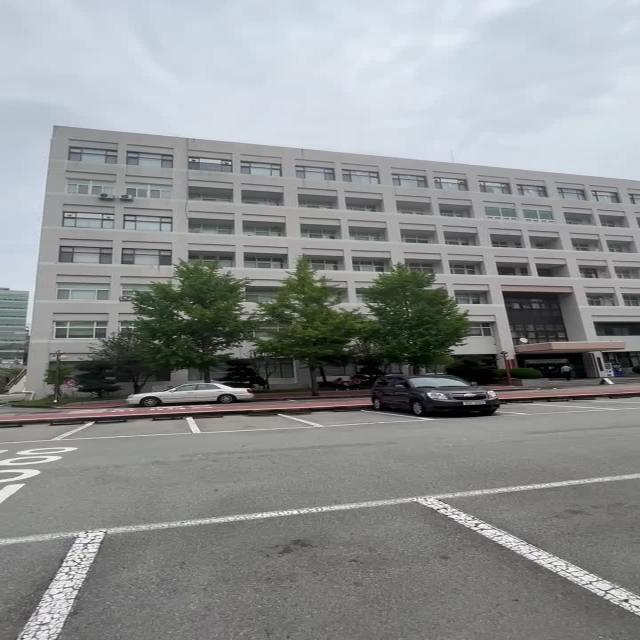building: (41, 130, 615, 270)
